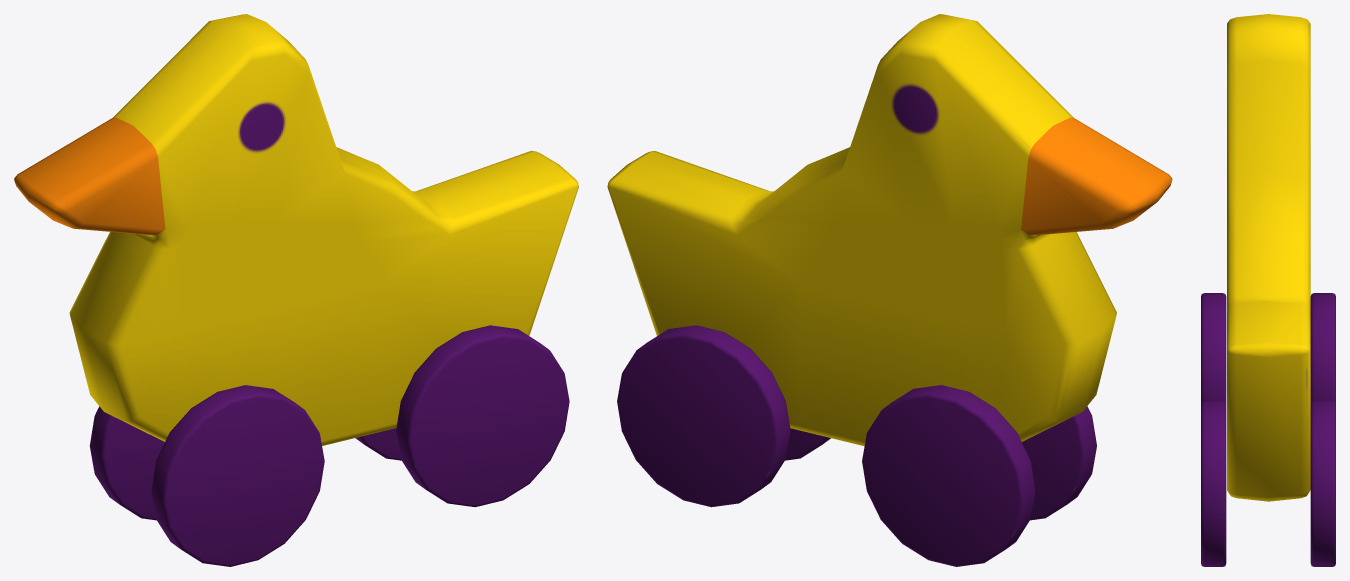
The model's file is ToyDuck_Nice_3.FBX.
3 renders of one model, left to right at view 1: azimuth 30°, elevation 25°; view 2: azimuth 150°, elevation 25°; view 3: azimuth 270°, elevation 25°, orthographic. The views are drawn at different scales.
Visible parts, largest first — view 1: Box001; view 2: Box001; view 3: Box001.
Boxes of the visible parts, x1,y1,x2,y2 form: Box001: (14,14,578,566); Box001: (607,14,1172,566); Box001: (1201,14,1335,566).
Bounding box in the file's own units: 6.58 × 5.91 × 1.61.
